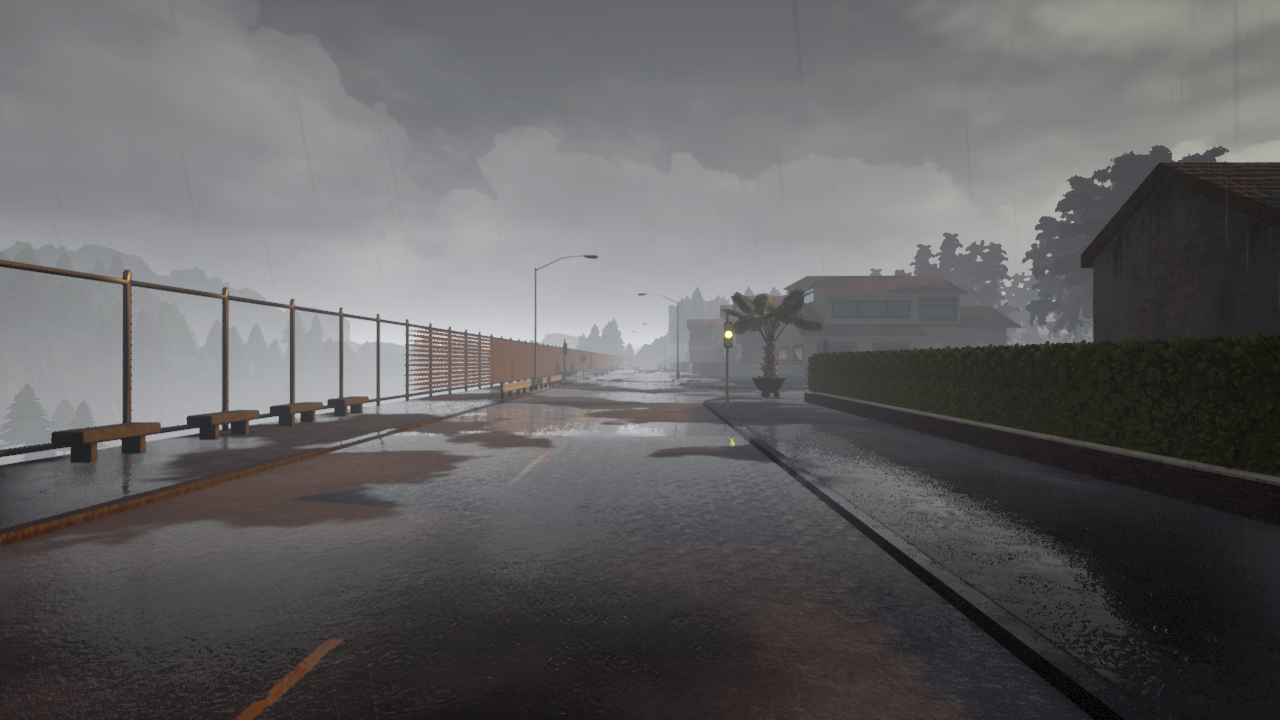yellow: (723, 320, 735, 351)
